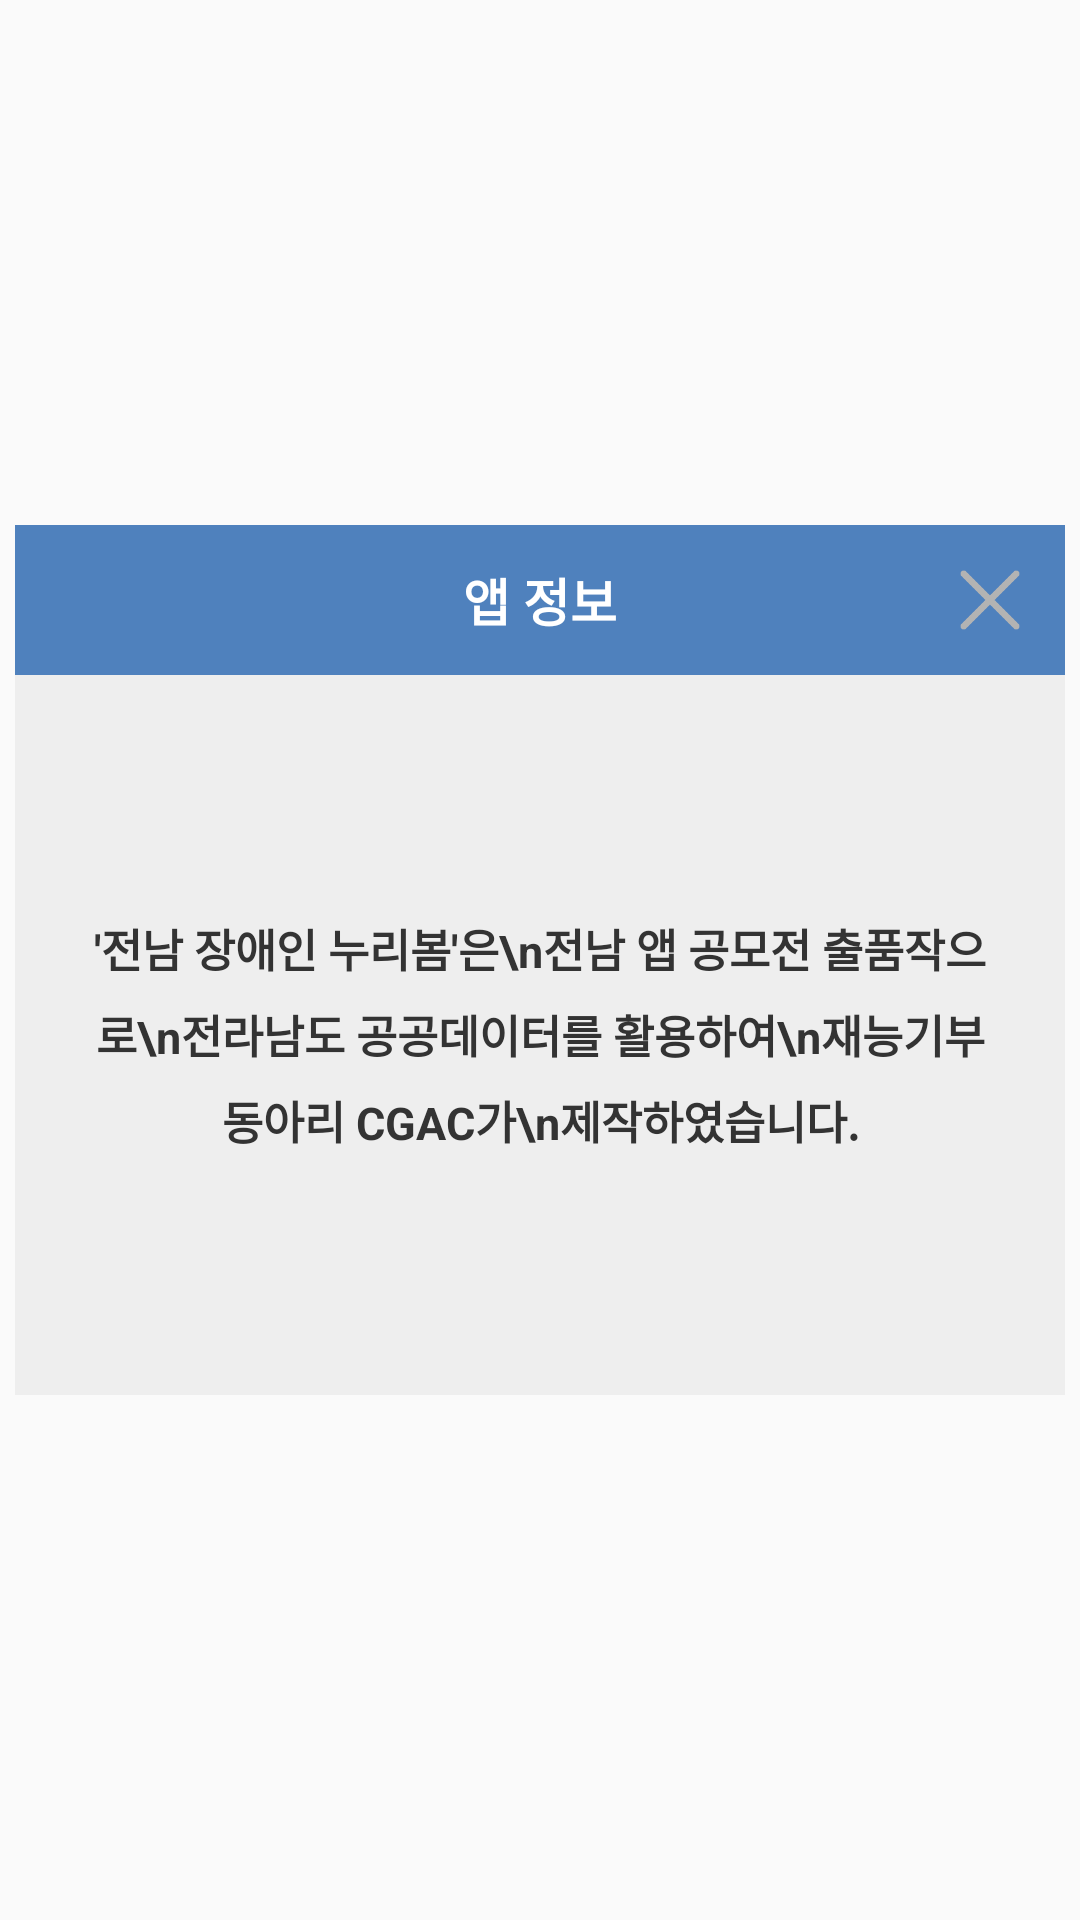

Locate icon controls on the screen. Image size 1080 x 1920, boxes as box(x1, y1, x2, y2).
취소: box(960, 570, 1020, 630)
